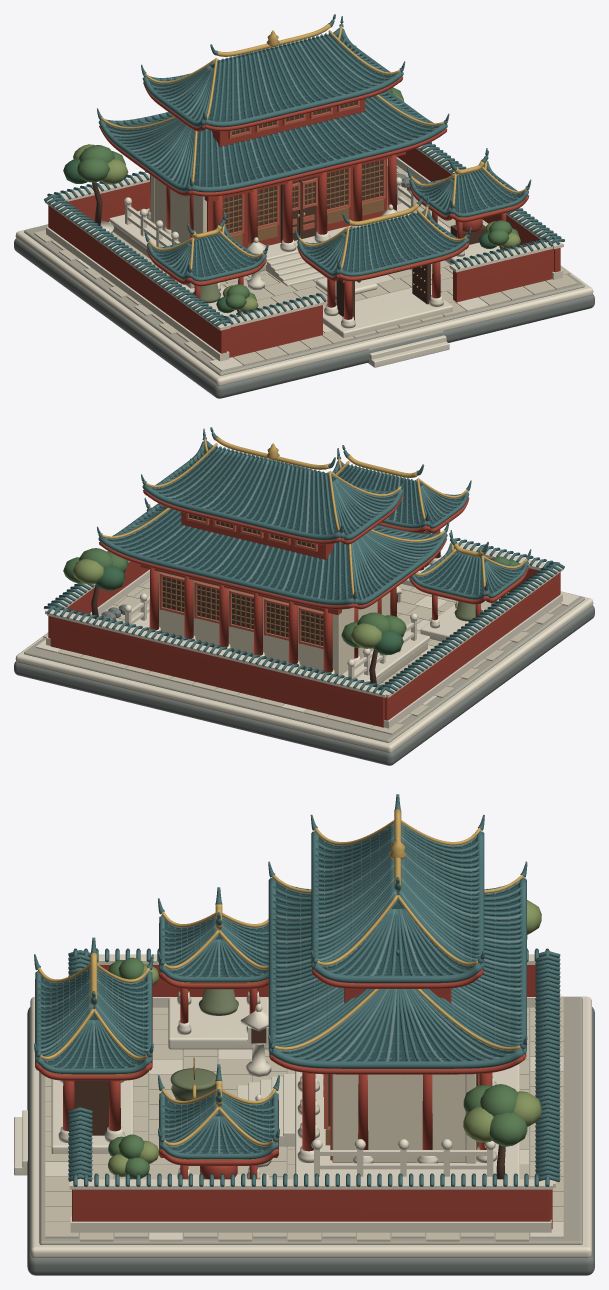
The model's file is temple-diorama.glb.
3 renders of one model, top to bottom at view 1: azimuth 30°, elevation 25°; view 2: azimuth 150°, elevation 25°; view 3: azimuth 270°, elevation 25°, orthographic. The views are drawn at different scales.
Parts seen in each view (by area): view 1: Main hall lower roof · teal, Main hall upper roof · teal, Courtyard paving · stone, Foundation / lower bevel, Foundation / warm limestone rim, Perimeter tiles · teal, Main hall lower roof · teal_dark, Perimeter coping · stone_light, Main hall upper roof · teal_dark, Gate roof · teal, Perimeter / side wall, Courtyard / paving bed (+46 smaller); view 2: Main hall lower roof · teal, Perimeter / rear wall, Main hall upper roof · teal, Foundation / lower bevel, Foundation / warm limestone rim, Perimeter tiles · teal, Perimeter coping · stone_light, Main hall lower roof · teal_dark, Courtyard / paving bed, Main hall upper roof · teal_dark, Courtyard paving · stone, Perimeter / side wall (+34 smaller); view 3: Main hall lower roof · teal, Main hall upper roof · teal, Perimeter / side wall.001, Courtyard paving · stone, Foundation / lower bevel, Foundation / warm limestone rim, Perimeter tiles · teal, Perimeter coping · stone_light, Courtyard / paving bed, Main hall / side wall.001, Gate roof · teal, Drum pavilion roof · teal (+40 smaller).
Part boxes in pixels (<box>): Main hall lower roof · teal: <box>97,45,449,192</box>; Main hall upper roof · teal: <box>141,14,405,127</box>; Courtyard paving · stone: <box>34,165,577,365</box>; Foundation / lower bevel: <box>14,238,594,398</box>; Foundation / warm limestone rim: <box>15,224,593,385</box>; Perimeter tiles · teal: <box>44,142,564,326</box>; Main hall lower roof · teal_dark: <box>106,95,436,186</box>; Perimeter coping · stone_light: <box>45,144,563,361</box>; Main hall upper roof · teal_dark: <box>150,34,391,121</box>; Gate roof · teal: <box>294,193,471,276</box>; Perimeter / side wall: <box>48,205,226,353</box>; Courtyard / paving bed: <box>24,224,584,375</box>; Main hall lower roof · teal: <box>97,458,449,605</box>; Perimeter / rear wall: <box>50,616,384,727</box>; Main hall upper roof · teal: <box>141,427,405,540</box>; Foundation / lower bevel: <box>14,605,594,765</box>; Foundation / warm limestone rim: <box>15,591,593,753</box>; Perimeter tiles · teal: <box>44,538,564,694</box>; Perimeter coping · stone_light: <box>45,541,563,728</box>; Main hall lower roof · teal_dark: <box>109,508,439,599</box>; Courtyard / paving bed: <box>24,591,584,742</box>; Main hall upper roof · teal_dark: <box>155,447,395,534</box>; Courtyard paving · stone: <box>43,578,562,734</box>; Perimeter / side wall: <box>384,572,560,720</box>; Main hall lower roof · teal: <box>268,861,527,1068</box>; Main hall upper roof · teal: <box>310,794,484,983</box>; Perimeter / side wall.001: <box>72,1189,550,1221</box>; Courtyard paving · stone: <box>45,996,563,1241</box>; Foundation / lower bevel: <box>27,1007,594,1275</box>; Foundation / warm limestone rim: <box>30,996,591,1257</box>; Perimeter tiles · teal: <box>68,948,560,1186</box>; Perimeter coping · stone_light: <box>69,954,555,1232</box>; Courtyard / paving bed: <box>39,996,582,1244</box>; Main hall / side wall.001: <box>332,1074,465,1162</box>; Gate roof · teal: <box>34,937,153,1074</box>; Drum pavilion roof · teal: <box>157,1064,279,1159</box>.
Bounding box in the file's own units: 12.6 × 7.22 × 12.08.
